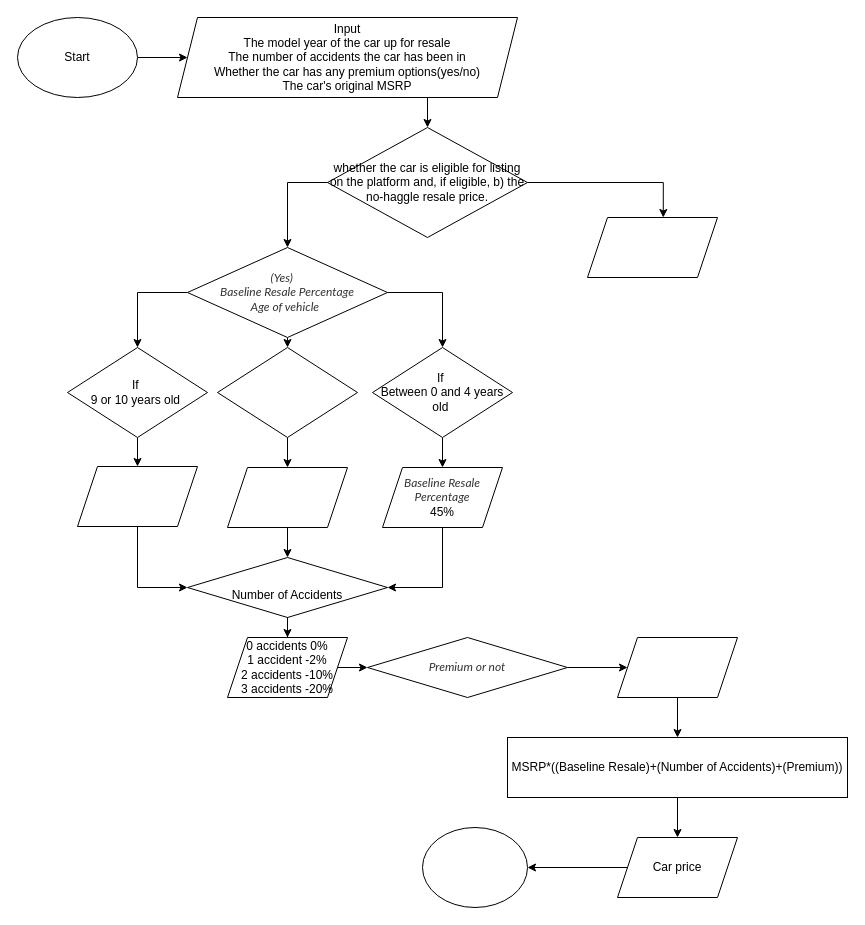
This 865x925 diagram has some shape labels left out. The centre of each missing label's shape, as x and y in pixels:
(No) "sorry your car isn't eligible": point (652, 247)
Baseline Resale Percentage 63%: point (287, 497)
Baseline Resale Percentage 85%: point (137, 496)
End: point (475, 867)
If Between 5 and 8 years old (inclusive): point (287, 392)
Yes 5% No 0%: point (677, 667)
